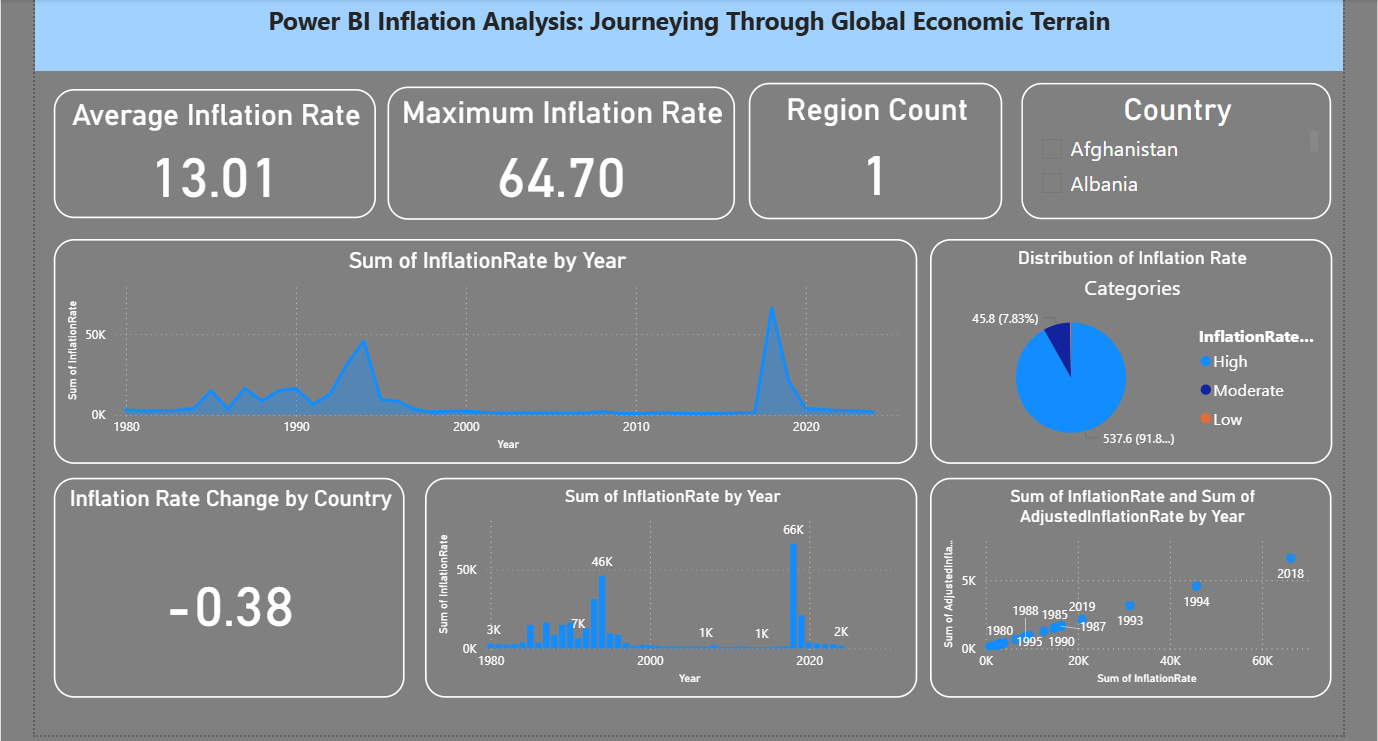

Layout of this report page (visuals, bound fields, positions):
{"tool":"powerbi","page":{"name":"Page 1","canvas":[1280,720],"ordinal":0},"visuals":[{"type":"card","title":"Average Inflation Rate","fields":{"Values":["Avg(global_inflation_data.InflationRate)"]},"box":[18.3,88.3,315,126.7],"z":0},{"type":"card","title":"Maximum Inflation Rate","fields":{"Values":["Max(global_inflation_data.InflationRate)"]},"box":[345,85,340,130],"z":1000},{"type":"card","title":"Region Count","fields":{"Values":["Count(DIM-Regions.Region)"]},"box":[698.3,81.7,248.3,133.3],"z":2000},{"type":"slicer","title":"Country","fields":{"Values":["DIM-Regions.country_name"]},"box":[965,81.7,303.3,133.3],"z":3000},{"type":"areaChart","fields":{"Category":["DIM-Inflation.Year"],"Y":["Sum(DIM-Inflation.InflationRate)"]},"box":[18.3,235,845,220],"z":4000},{"type":"pieChart","title":"Distribution of Inflation Rate               ","fields":{"Category":["global_inflation_data.InflationRateCategory"],"Y":["Sum(global_inflation_data.InflationRate)"]},"box":[875,235,393.3,220],"z":5000},{"type":"card","title":"Inflation Rate Change by Country","fields":{"Values":["global_inflation_data.InflationRateChange"]},"box":[18.3,468.3,343.3,215],"z":6000},{"type":"clusteredColumnChart","fields":{"Category":["DIM-Inflation.Year"],"Y":["Sum(DIM-Inflation.InflationRate)"]},"box":[381.7,468.3,481.7,215],"z":7000},{"type":"scatterChart","title":"Sum of InflationRate and Sum of AdjustedInflationRate by Year","fields":{"X":["Sum(DIM-Inflation.InflationRate)"],"Y":["Sum(DIM-Inflation.AdjustedInflationRate)"],"Category":["DIM-Inflation.Year"]},"box":[875,468,393,215],"z":8000},{"type":"textbox","box":[0,0,1280,70],"z":9000}]}

Visuals, with their boxes in screenshot pixels (x1, y1, x2, y2):
"Average Inflation Rate" card: BBox(58, 86, 377, 214)
"Maximum Inflation Rate" card: BBox(389, 82, 733, 214)
"Region Count" card: BBox(747, 79, 998, 214)
"Country" slicer: BBox(1017, 79, 1324, 214)
areaChart - DIM-Inflation.Year x Sum(DIM-Inflation.InflationRate): BBox(58, 234, 914, 457)
"Distribution of Inflation Rate               " pieChart: BBox(925, 234, 1324, 457)
"Inflation Rate Change by Country" card: BBox(58, 471, 406, 688)
clusteredColumnChart - DIM-Inflation.Year x Sum(DIM-Inflation.InflationRate): BBox(426, 471, 914, 688)
"Sum of InflationRate and Sum of AdjustedInflationRate by Year" scatterChart: BBox(925, 470, 1323, 688)
textbox: BBox(39, 0, 1336, 67)
